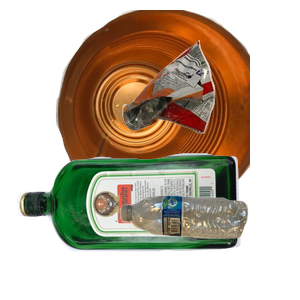glass: (14, 150, 247, 300)
metal: (53, 10, 293, 190)
plastic: (118, 193, 300, 300)
trash: (120, 38, 300, 164)
